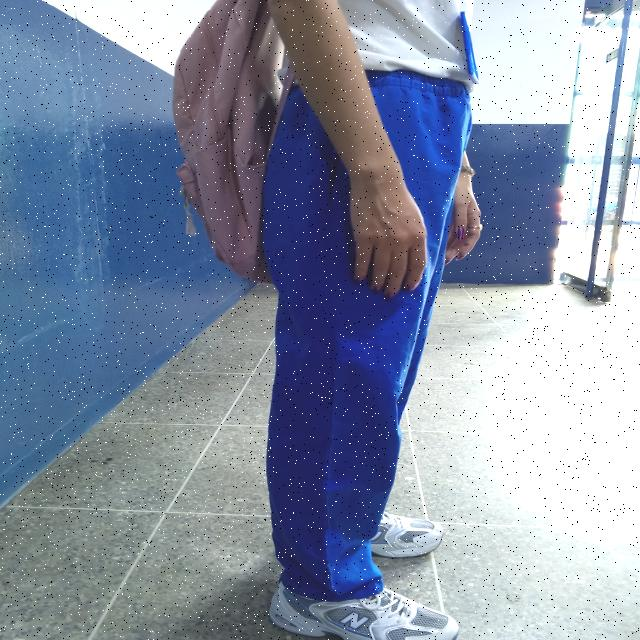uniforme_superior: (262, 69, 474, 602)
